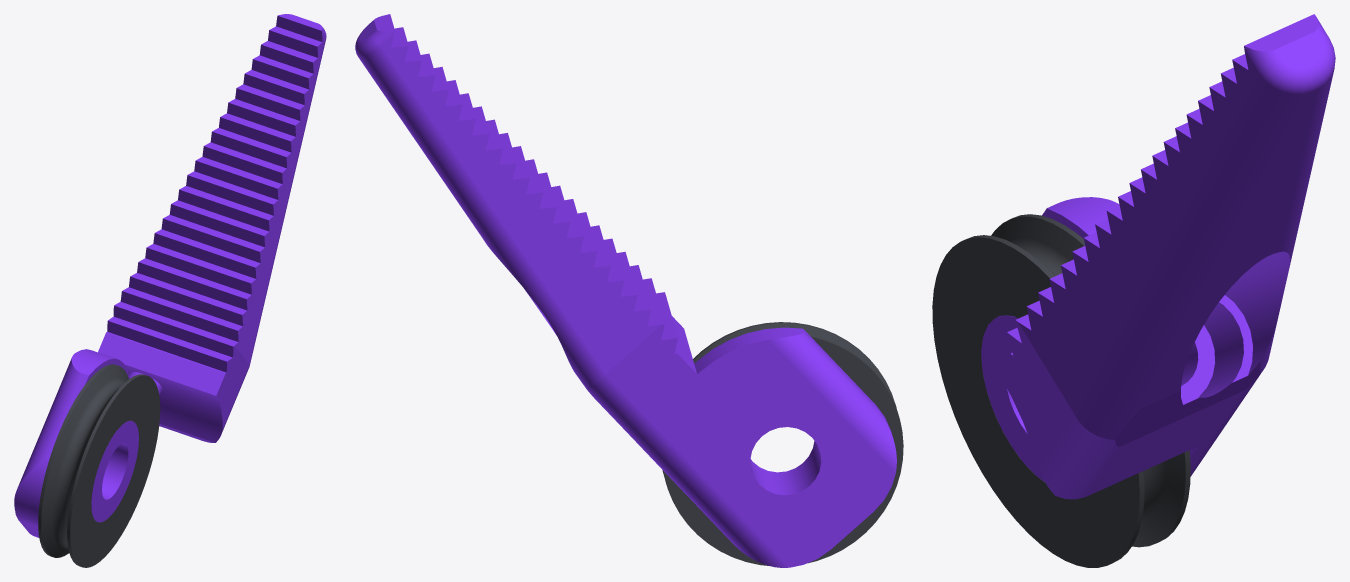
File: grasper_1.dae
3 views of the same model, side by side, from view 1: azimuth 30°, elevation 25°; view 2: azimuth 150°, elevation 25°; view 3: azimuth 270°, elevation 25° (orthographic). The views are drawn at different scales.
Visible parts, largest first — view 1: Actor1, Actor0; view 2: Actor1, Actor0; view 3: Actor1, Actor0.
Boxes of the visible parts, bbox=[...] form: Actor1: bbox=[14, 14, 326, 537]; Actor0: bbox=[38, 364, 160, 567]; Actor1: bbox=[355, 14, 896, 567]; Actor0: bbox=[662, 322, 903, 565]; Actor1: bbox=[981, 14, 1335, 499]; Actor0: bbox=[932, 214, 1190, 567].
Bounding box in the file's own units: 0.0183 × 0.0199 × 0.00963.
